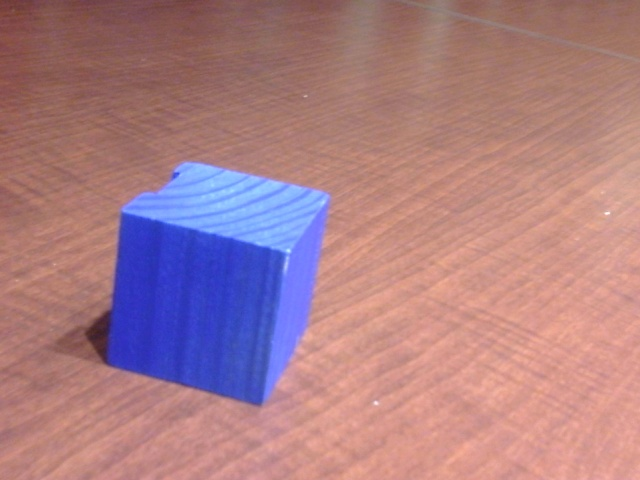BlueBlock: (105, 162, 330, 405)
